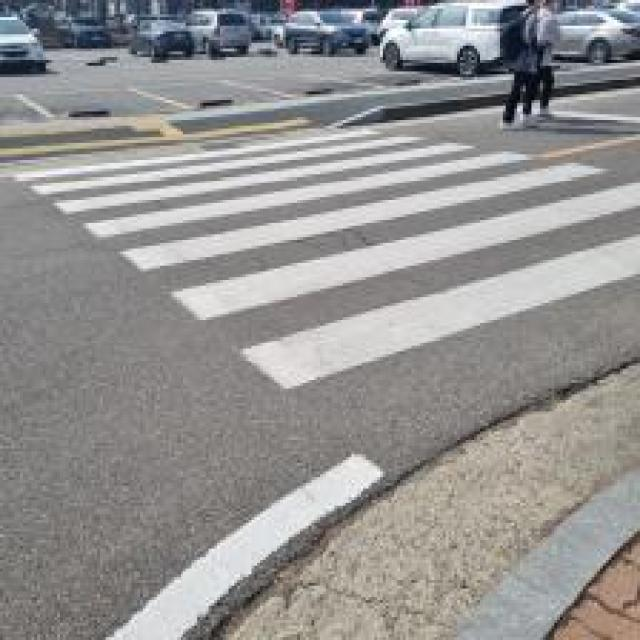walk-crossing: (55, 144, 614, 399)
